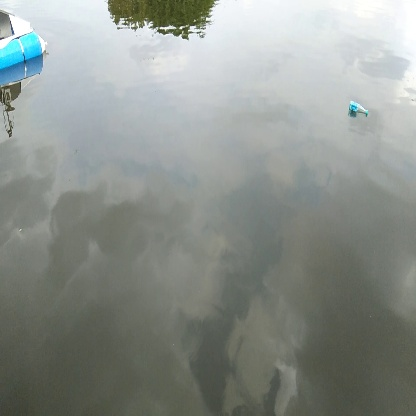bottle: (342, 98, 371, 118)
